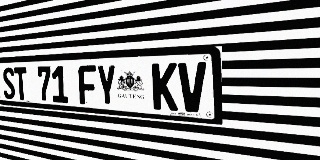1: (51, 66, 68, 103)
7: (36, 66, 52, 102)
F: (78, 65, 97, 105)
K: (152, 63, 178, 111)
S: (2, 67, 16, 99)
T: (14, 67, 28, 100)
V: (178, 62, 207, 113)
Y: (96, 64, 117, 107)
